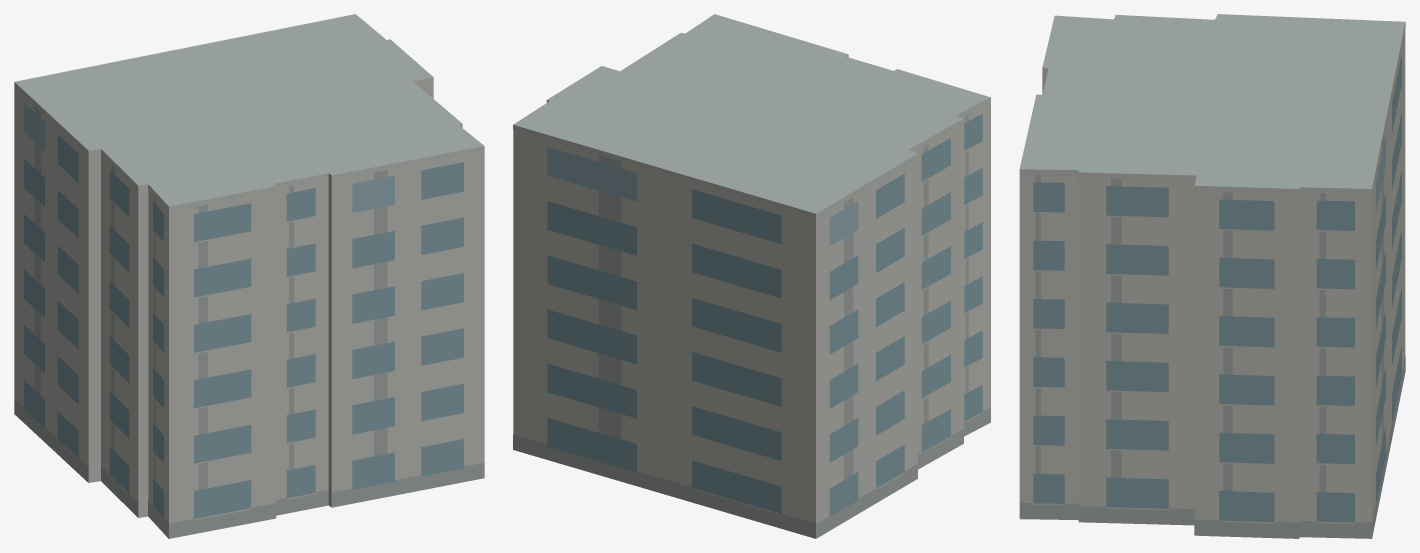
File: survey-upis-32925100.glb
The picture shows the model from 3 angles, left to right: view 1: azimuth 30°, elevation 25°; view 2: azimuth 150°, elevation 25°; view 3: azimuth 270°, elevation 25°; orthographic projection. The views are drawn at different scales.
Visible parts, largest first — view 1: survey-upis-32925100.tmp; view 2: survey-upis-32925100.tmp; view 3: survey-upis-32925100.tmp.
Part boxes in pixels (bbox=[...]): survey-upis-32925100.tmp: bbox=[14, 14, 484, 538]; survey-upis-32925100.tmp: bbox=[513, 14, 990, 538]; survey-upis-32925100.tmp: bbox=[1019, 14, 1405, 538].
Bounding box in the file's own units: 16.74 × 15.6 × 15.6.
